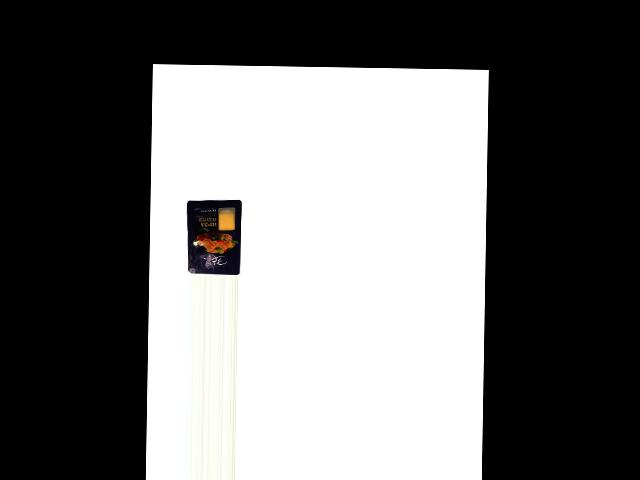cheese: (183, 198, 241, 275)
